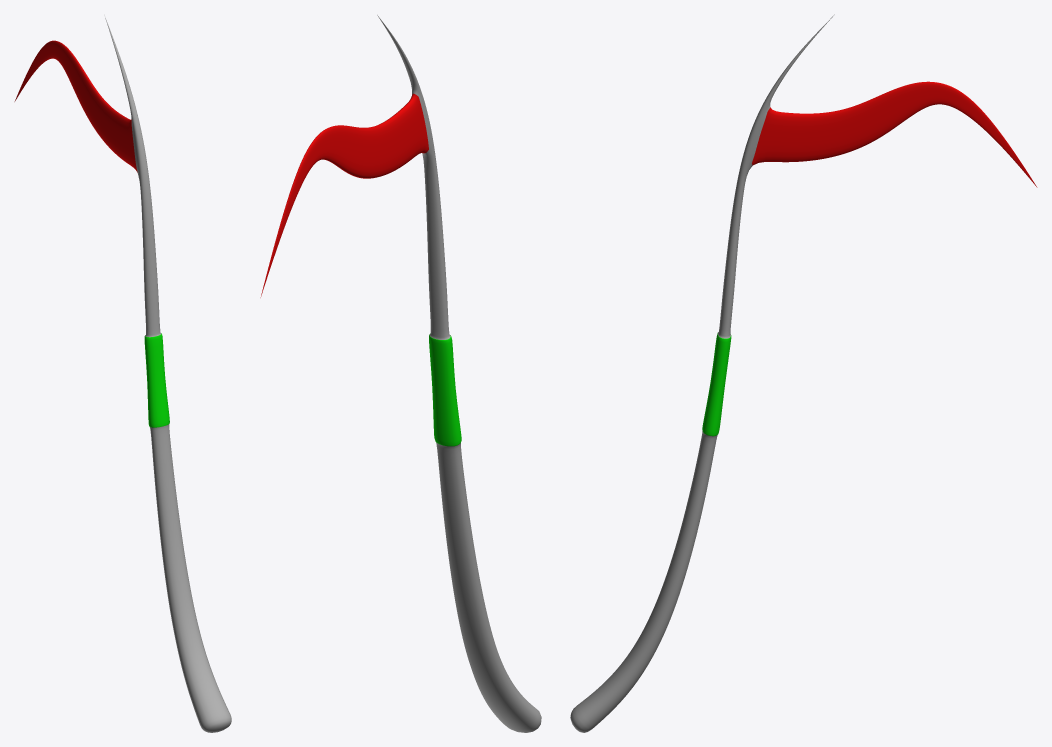
Rendered from scythe.glb.
3 renders of one model, left to right at view 1: azimuth 30°, elevation 25°; view 2: azimuth 150°, elevation 25°; view 3: azimuth 270°, elevation 25°, orthographic. The views are drawn at different scales.
Parts seen in each view (by area): view 1: pPlane1; view 2: pPlane1; view 3: pPlane1.
Part boxes in pixels (bbox=[...]): pPlane1: bbox=[14, 15, 231, 732]; pPlane1: bbox=[260, 15, 541, 732]; pPlane1: bbox=[570, 14, 1037, 732].
Size of the model in its own units: 0.00626 by 0.1296 by 0.0766.
